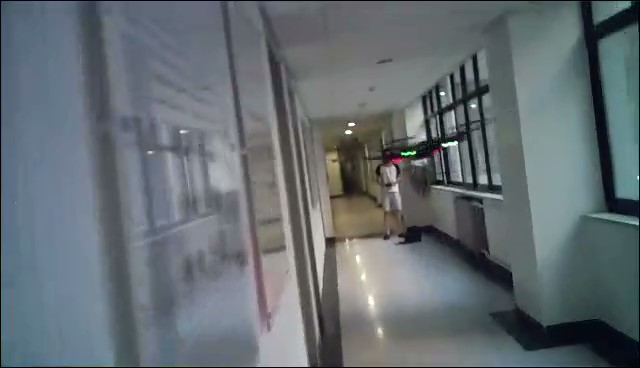drone: (364, 120, 490, 170)
person: (374, 163, 413, 240)
